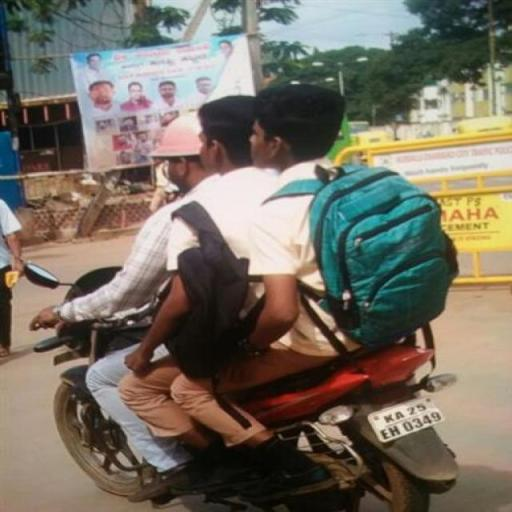tripple riding: (94, 90, 461, 359)
